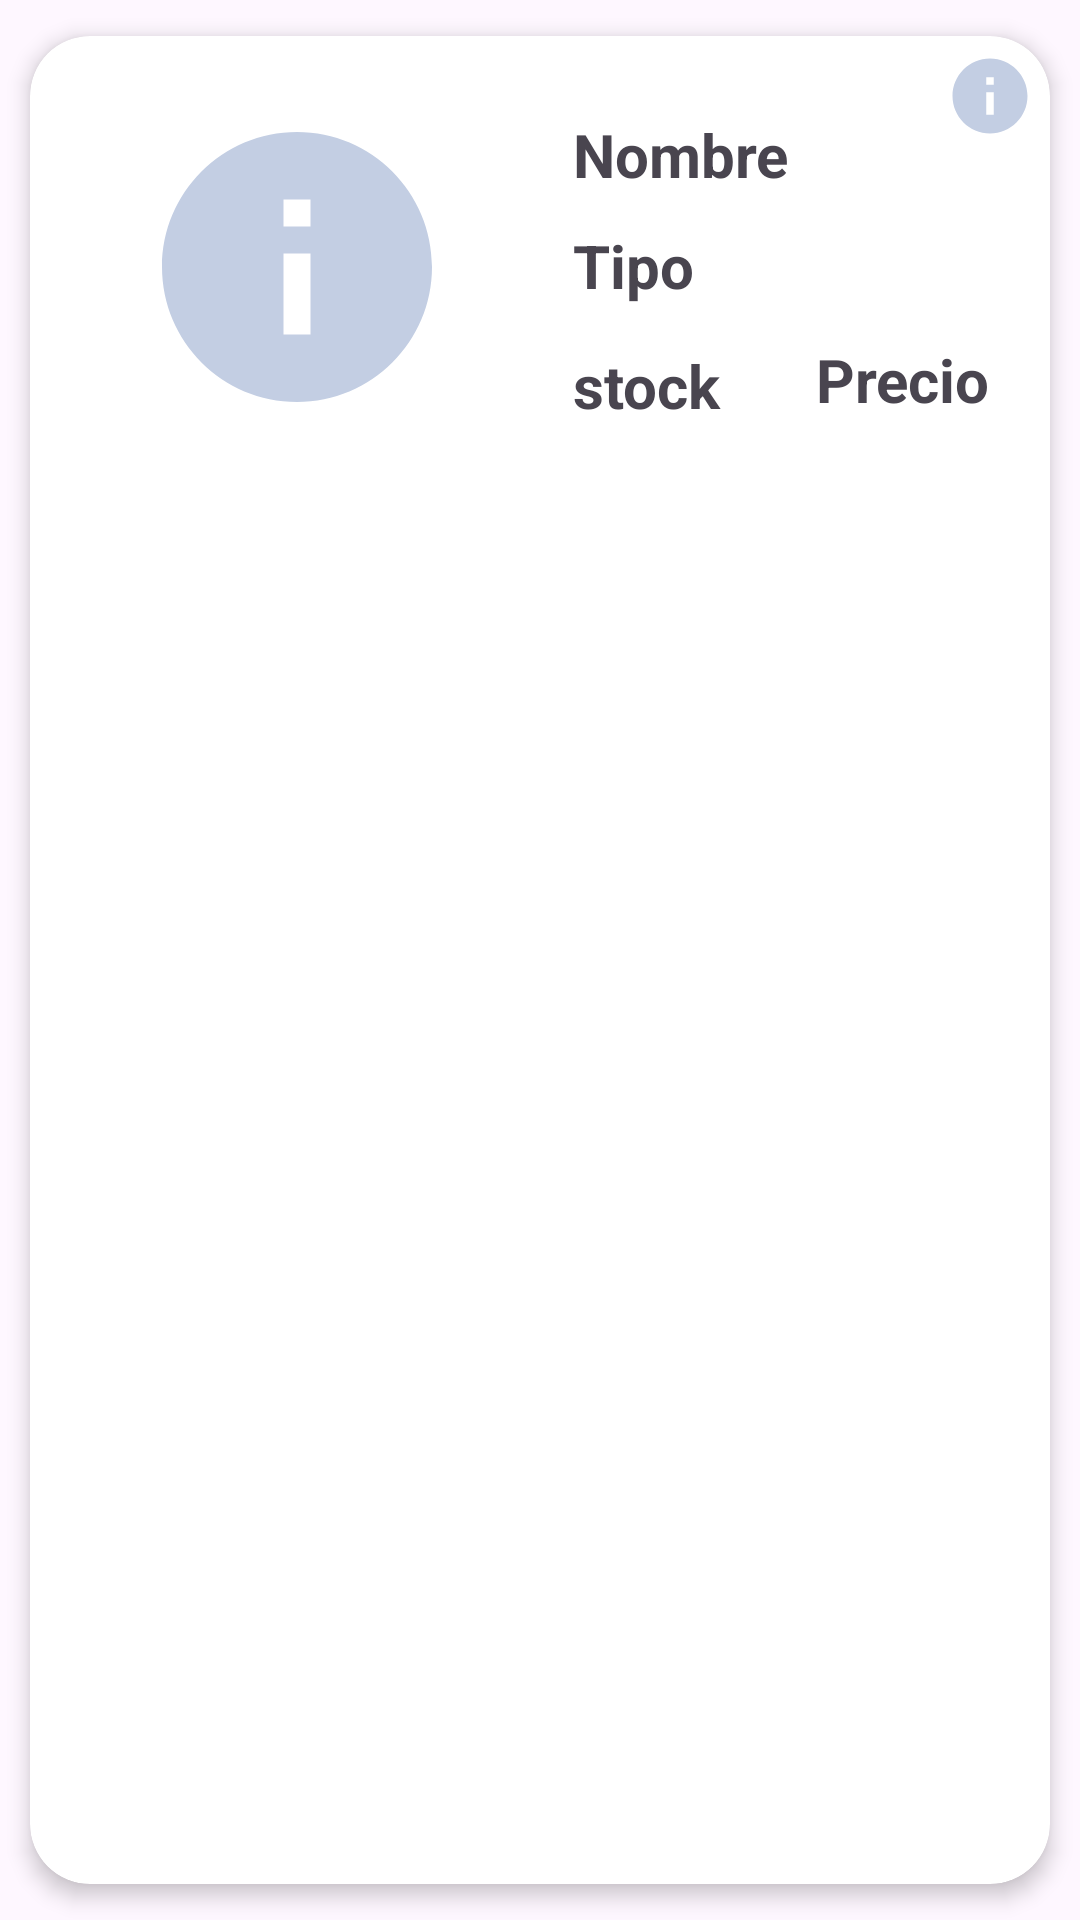

Named icons in this screenshot (1080w x 1920h) and their bounding boxes, (x1, y1, x2, y2):
information: (952, 58, 1028, 134), (162, 132, 432, 402)
